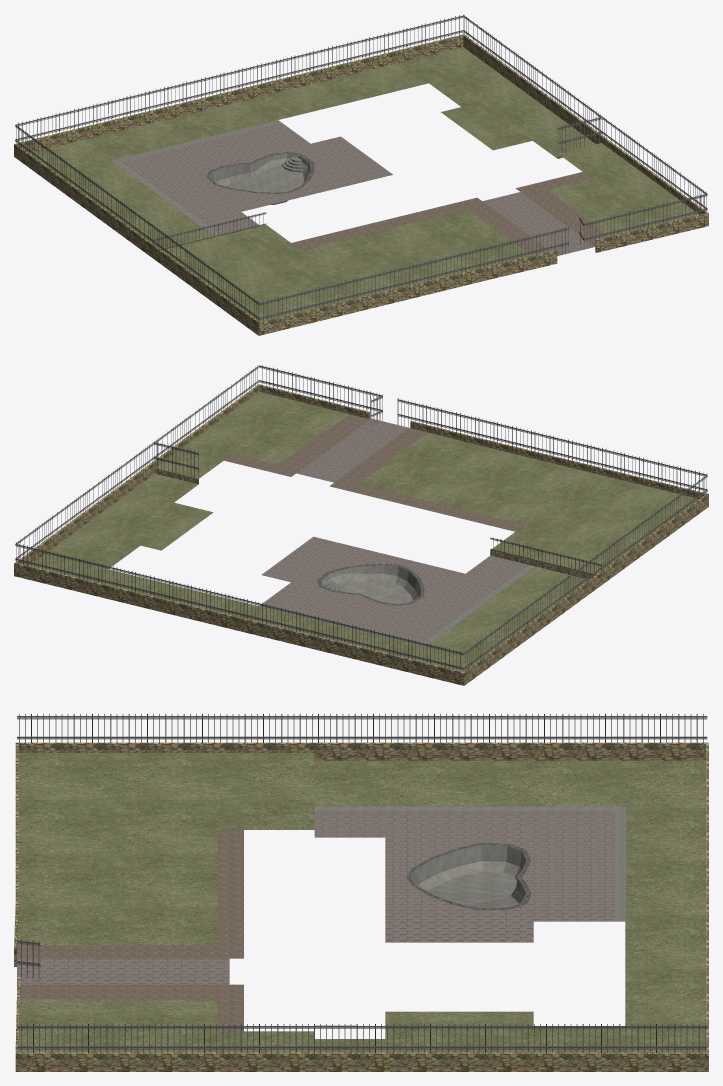
Rendered from des_studgrnd.obj.
3 renders of one model, top to bottom at view 1: azimuth 30°, elevation 25°; view 2: azimuth 150°, elevation 25°; view 3: azimuth 270°, elevation 25°, orthographic. The views are drawn at different scales.
Parts seen in each view (by area): view 1: des_studgrnd; view 2: des_studgrnd; view 3: des_studgrnd.
Boxes of the visible parts, left/top/right/bottom form: des_studgrnd: left=14, top=14, right=708, bottom=335; des_studgrnd: left=14, top=365, right=708, bottom=685; des_studgrnd: left=14, top=714, right=708, bottom=1071.
Size of the model in its own units: 52.12 by 5.29 by 49.21.
7 materials, 7 textured.
